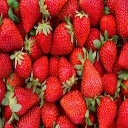strawberry: (58, 91, 90, 123), (8, 85, 39, 117), (50, 21, 76, 57), (18, 1, 43, 34), (13, 49, 33, 79)
